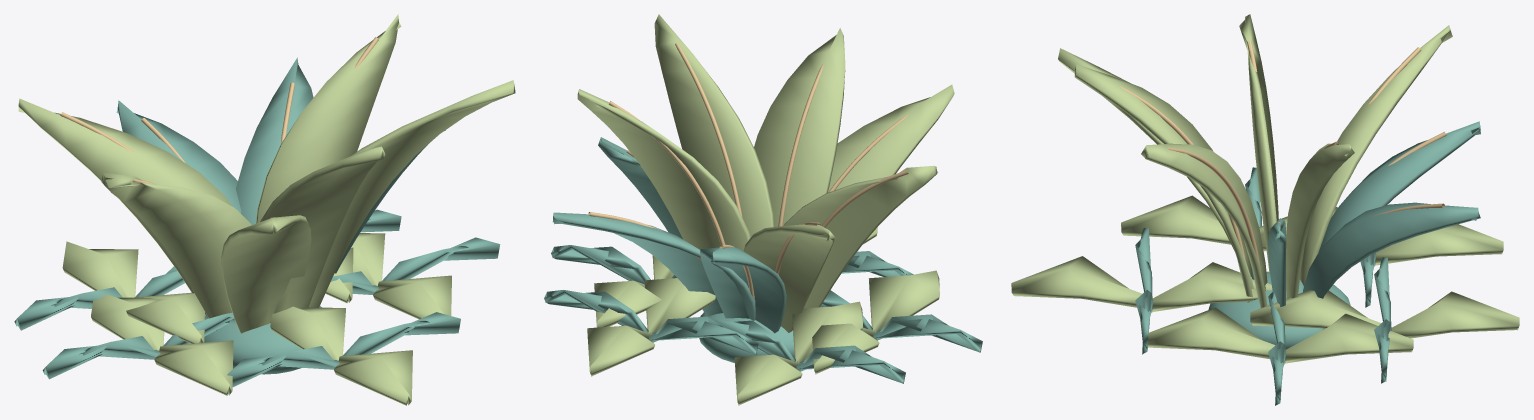
Rendered from bio_mist_leaf_10_near.glb.
3 views of the same model, side by side, from view 1: azimuth 30°, elevation 25°; view 2: azimuth 150°, elevation 25°; view 3: azimuth 270°, elevation 25° (orthographic). The views are drawn at different scales.
Parts seen in each view (by area): view 1: Cupped condensate leaf.008, Cupped condensate leaf.004, Cupped condensate leaf.007, Cupped condensate leaf.001, Cupped condensate leaf.002, Cupped condensate leaf.005, Low buttress leaf.009, Low buttress leaf.005, Low buttress leaf.017, Cupped condensate leaf.003, Low buttress leaf.001, Low buttress leaf.008 (+8 smaller); view 2: Cupped condensate leaf.002, Cupped condensate leaf.005, Cupped condensate leaf.008, Cupped condensate leaf.004, Cupped condensate leaf.007, Cupped condensate leaf.001, Cupped condensate leaf.003, Low buttress leaf.017, Low buttress leaf.013, Low buttress leaf.005, Cupped condensate leaf.006, Low buttress leaf.012 (+12 smaller); view 3: Low buttress leaf.001, Low buttress leaf.009, Cupped condensate leaf.003, Low buttress leaf.013, Cupped condensate leaf.001, Cupped condensate leaf.002, Cupped condensate leaf.005, Cupped condensate leaf.006, Cupped condensate leaf.008, Cupped condensate leaf.004, Low buttress leaf.017, Low buttress leaf.005 (+10 smaller).
Part boxes in pixels (x1,y1,x2,y2): Cupped condensate leaf.008: [256, 14, 401, 223]; Cupped condensate leaf.004: [101, 172, 251, 330]; Cupped condensate leaf.007: [221, 215, 311, 333]; Cupped condensate leaf.001: [18, 98, 231, 317]; Cupped condensate leaf.002: [260, 146, 385, 322]; Cupped condensate leaf.005: [308, 80, 515, 307]; Low buttress leaf.009: [270, 306, 412, 405]; Low buttress leaf.005: [62, 241, 204, 343]; Low buttress leaf.017: [91, 290, 233, 395]; Cupped condensate leaf.003: [236, 57, 313, 224]; Low buttress leaf.001: [351, 233, 451, 319]; Low buttress leaf.008: [227, 312, 460, 386]; Cupped condensate leaf.002: [754, 28, 845, 226]; Cupped condensate leaf.005: [654, 14, 774, 237]; Cupped condensate leaf.008: [577, 89, 750, 251]; Cupped condensate leaf.004: [783, 165, 937, 308]; Cupped condensate leaf.007: [828, 84, 954, 192]; Cupped condensate leaf.001: [743, 224, 835, 332]; Cupped condensate leaf.003: [552, 212, 755, 320]; Low buttress leaf.017: [812, 270, 939, 374]; Low buttress leaf.013: [587, 278, 715, 376]; Low buttress leaf.005: [734, 301, 862, 405]; Cupped condensate leaf.006: [700, 247, 786, 333]; Low buttress leaf.012: [544, 290, 758, 354]; Low buttress leaf.001: [1148, 307, 1413, 364]; Low buttress leaf.009: [1011, 256, 1272, 312]; Cupped condensate leaf.003: [1303, 202, 1480, 298]; Low buttress leaf.013: [1250, 290, 1519, 338]; Cupped condensate leaf.001: [1300, 25, 1452, 286]; Cupped condensate leaf.002: [1074, 64, 1253, 302]; Cupped condensate leaf.005: [1141, 143, 1267, 307]; Cupped condensate leaf.006: [1319, 121, 1480, 251]; Cupped condensate leaf.008: [1286, 143, 1354, 298]; Cupped condensate leaf.004: [1239, 14, 1278, 274]; Low buttress leaf.017: [1121, 195, 1337, 251]; Low buttress leaf.005: [1259, 216, 1503, 266].
Bounding box in the file's own units: 2.22 × 1.3 × 2.09.
